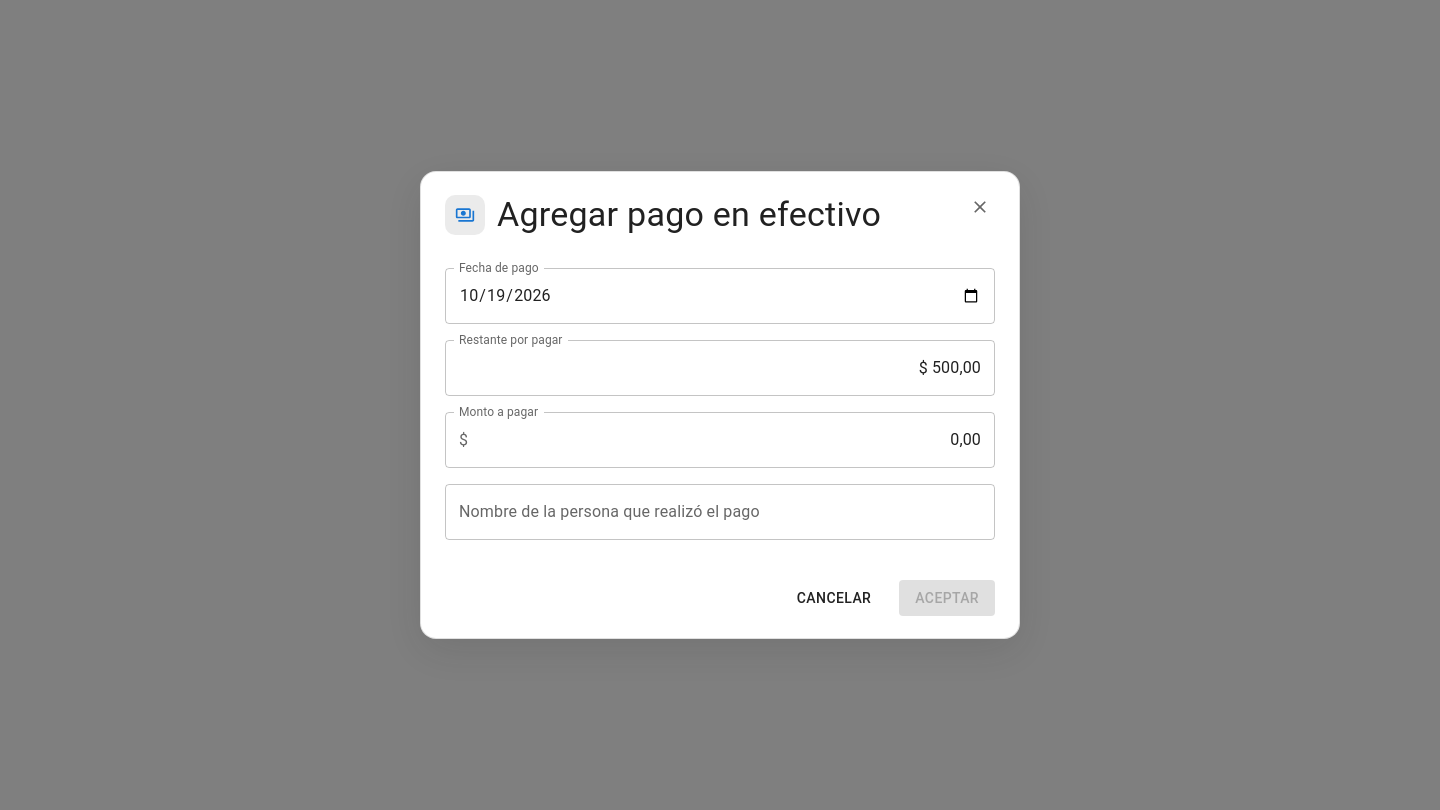
Test case: CashPaymentDialog › given valid amount, when clicking Aceptar, then shows confirmation alert
Click the field labelled "Restante por pagar": [720, 368] box [445,340,995,396]
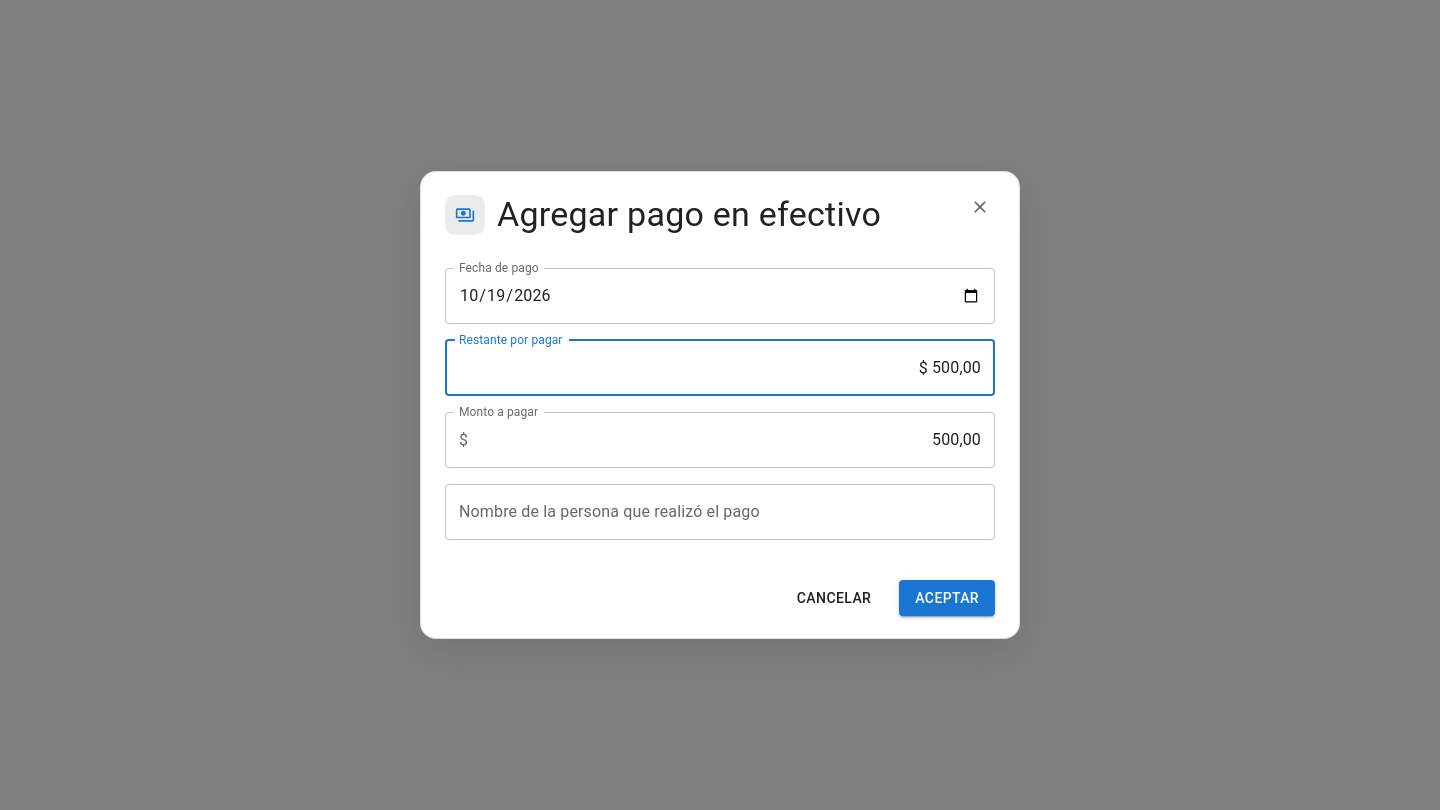
Click the button "Aceptar": [947, 598] box [899,580,995,616]
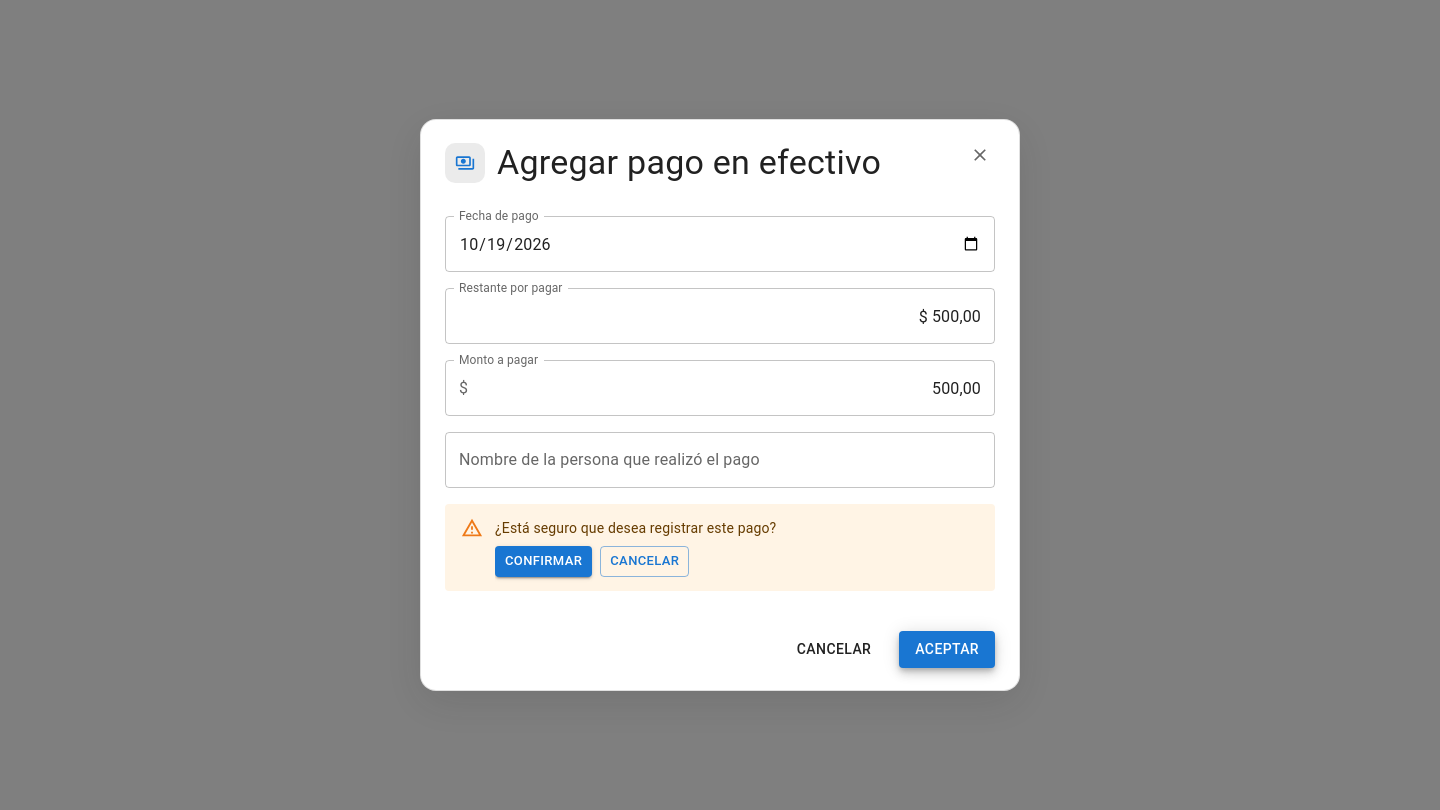
expect the text "¿Está seguro que desea registrar este pago?" is shown: met, box [495,510,776,585]
